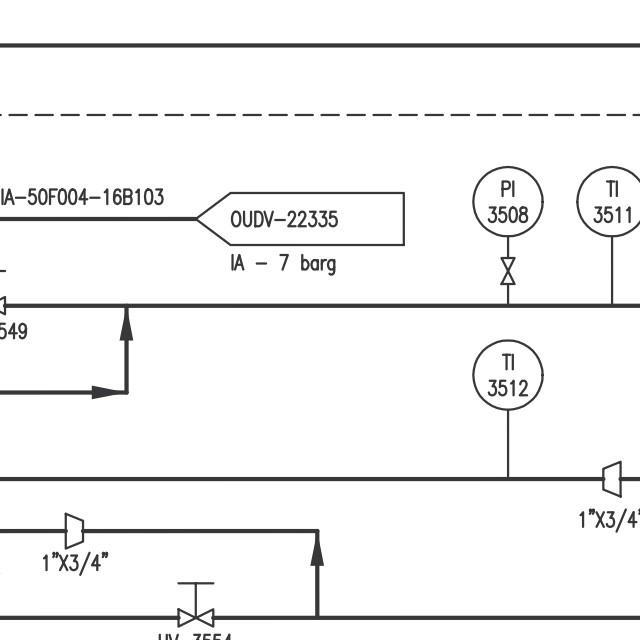GV: (495, 250, 520, 287)
HVWT: (169, 573, 220, 629)
SP: (596, 456, 626, 500), (60, 507, 88, 549)
